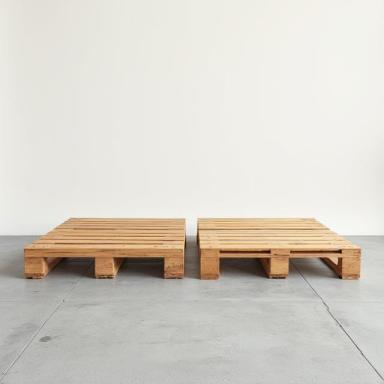pallet: (197, 217, 361, 280), (23, 217, 186, 279)
